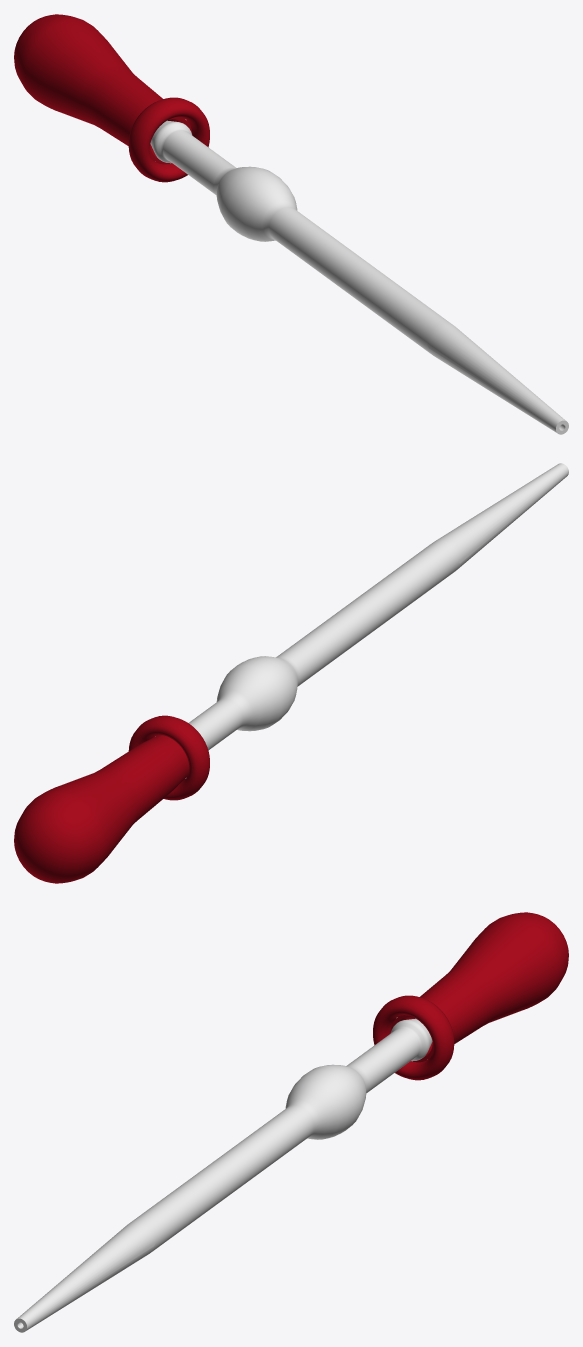
File: dropper.fbx
3 renders of one model, top to bottom at view 1: azimuth 30°, elevation 25°; view 2: azimuth 150°, elevation 25°; view 3: azimuth 330°, elevation 25°, orthographic.
Visible parts, largest first — view 1: 円, 球; view 2: 円, 球; view 3: 円, 球.
Part boxes in pixels (x1=…): 円: x1=150, y1=120, x2=568, y2=434; 球: x1=14, y1=14, x2=209, y2=182; 円: x1=188, y1=463, x2=568, y2=750; 球: x1=14, y1=715, x2=209, y2=883; 円: x1=14, y1=1018, x2=432, y2=1332; 球: x1=373, y1=912, x2=568, y2=1080.
Bounding box in the file's own units: 6.64 × 6.64 × 74.75.
